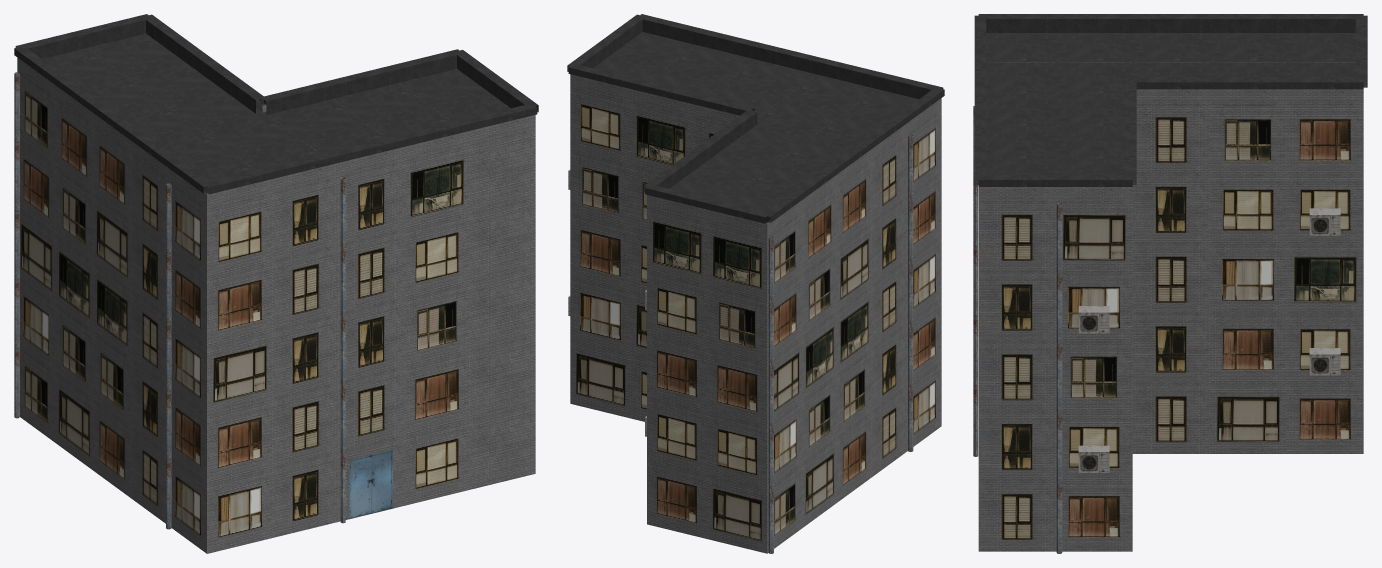
The model's file is Alex_WhiteBrickCorner_Model.fbx.
3 renders of one model, left to right at view 1: azimuth 30°, elevation 25°; view 2: azimuth 150°, elevation 25°; view 3: azimuth 270°, elevation 25°, orthographic. The views are drawn at different scales.
Parts seen in each view (by area): view 1: Alex_WhiteBrickCorner_Part01, Alex_WhiteBrickCorner_Part00; view 2: Alex_WhiteBrickCorner_Part01, Alex_WhiteBrickCorner_Part00; view 3: Alex_WhiteBrickCorner_Part01, Alex_WhiteBrickCorner_Part00.
Part boxes in pixels (x1=…): Alex_WhiteBrickCorner_Part01: x1=14, y1=14, x2=538, y2=553; Alex_WhiteBrickCorner_Part00: x1=14, y1=33, x2=510, y2=529; Alex_WhiteBrickCorner_Part01: x1=567, y1=14, x2=944, y2=553; Alex_WhiteBrickCorner_Part00: x1=568, y1=32, x2=918, y2=553; Alex_WhiteBrickCorner_Part01: x1=974, y1=14, x2=1367, y2=551; Alex_WhiteBrickCorner_Part00: x1=973, y1=33, x2=1355, y2=553.
Size of the model in its own units: 14.77 by 14.98 by 14.33.
